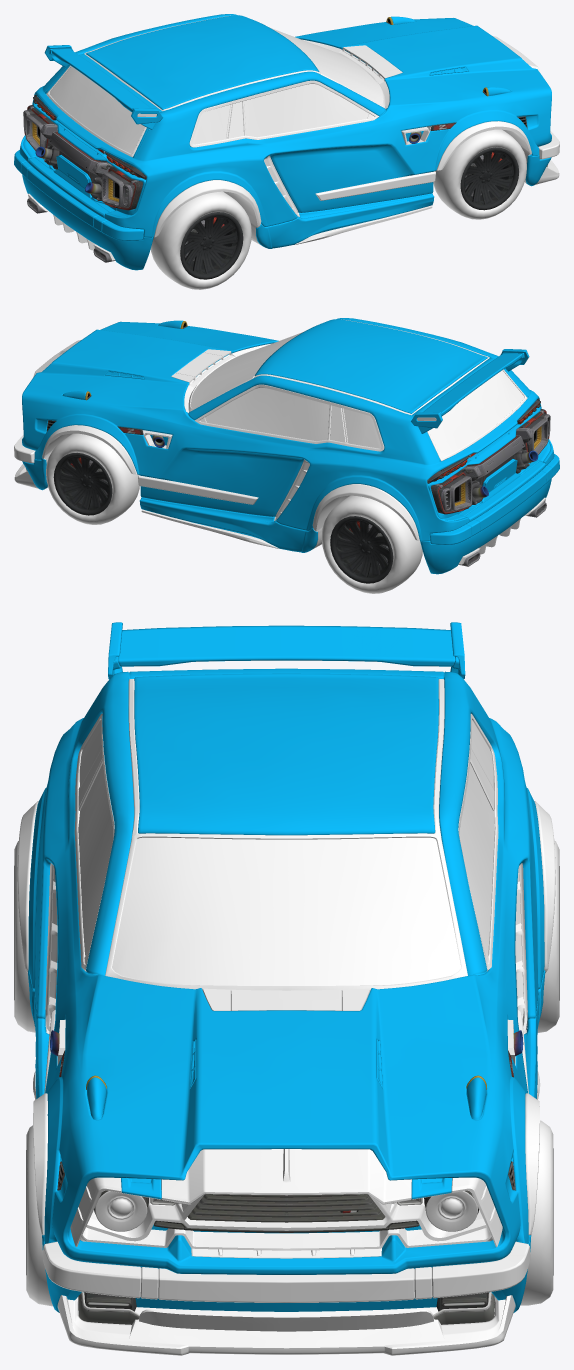
The picture shows the model from 3 angles, top to bottom: view 1: azimuth 30°, elevation 25°; view 2: azimuth 150°, elevation 25°; view 3: azimuth 270°, elevation 25°; orthographic projection. The views are drawn at different scales.
Visible parts, largest first — view 1: Fennec_-_Body_v2, Paint_v2, Window_v2, Fennec_Chassis_v2, Dieci_Tread_BR_v2, Dieci_Tread_FR_v2, Alpha_Rim_BR_v2, Alpha_Rim_FR_v2; view 2: Fennec_-_Body_v2, Paint_v2, Window_v2, Fennec_Chassis_v2, Dieci_Tread_BL_v2, Dieci_Tread_FL_v2, Alpha_Rim_BL_v2, Alpha_Rim_FL_v2; view 3: Fennec_-_Body_v2, Paint_v2, Window_v2, Fennec_Chassis_v2, Dieci_Tread_FL_v2, Headlights_v2, Dieci_Tread_FR_v2, Dieci_Tread_BL_v2, Dieci_Tread_BR_v2.
Boxes of the visible parts, bbox=[...] form: Fennec_-_Body_v2: bbox=[14, 14, 551, 270]; Paint_v2: bbox=[28, 15, 559, 260]; Window_v2: bbox=[49, 28, 382, 153]; Fennec_Chassis_v2: bbox=[23, 17, 547, 262]; Dieci_Tread_BR_v2: bbox=[150, 191, 251, 289]; Dieci_Tread_FR_v2: bbox=[433, 129, 526, 219]; Alpha_Rim_BR_v2: bbox=[180, 212, 243, 279]; Alpha_Rim_FR_v2: bbox=[460, 147, 518, 210]; Fennec_-_Body_v2: bbox=[22, 318, 559, 574]; Paint_v2: bbox=[14, 319, 545, 564]; Window_v2: bbox=[191, 332, 524, 457]; Fennec_Chassis_v2: bbox=[26, 321, 550, 566]; Dieci_Tread_BL_v2: bbox=[321, 495, 422, 593]; Dieci_Tread_FL_v2: bbox=[46, 433, 139, 524]; Alpha_Rim_BL_v2: bbox=[330, 516, 393, 583]; Alpha_Rim_FL_v2: bbox=[53, 452, 112, 515]; Fennec_-_Body_v2: bbox=[28, 622, 545, 1312]; Paint_v2: bbox=[17, 679, 555, 1355]; Window_v2: bbox=[78, 720, 494, 985]; Fennec_Chassis_v2: bbox=[50, 1030, 523, 1324]; Dieci_Tread_FL_v2: bbox=[520, 1120, 553, 1305]; Headlights_v2: bbox=[95, 1191, 477, 1231]; Dieci_Tread_FR_v2: bbox=[26, 1125, 52, 1306]; Dieci_Tread_BL_v2: bbox=[537, 840, 559, 1032]; Dieci_Tread_BR_v2: bbox=[14, 841, 35, 1032].
Bounding box in the file's own units: 140 × 51.65 × 72.47.
7 materials, 2 textured.
